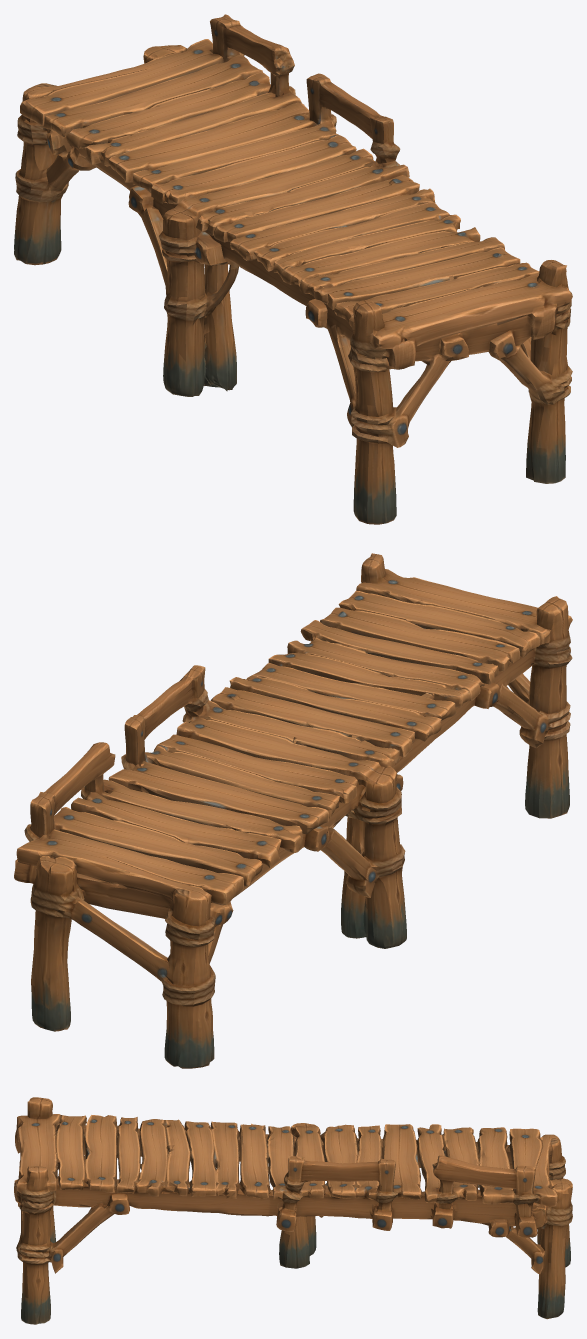
The model's file is crash-boardwalk-section.glb.
3 renders of one model, top to bottom at view 1: azimuth 30°, elevation 25°; view 2: azimuth 150°, elevation 25°; view 3: azimuth 270°, elevation 25°, orthographic. The views are drawn at different scales.
Visible parts, largest first — view 1: Boardwalk long axis along Z; view 2: Boardwalk long axis along Z; view 3: Boardwalk long axis along Z.
Part boxes in pixels (bbox=[...]): Boardwalk long axis along Z: bbox=[14, 14, 572, 524]; Boardwalk long axis along Z: bbox=[14, 553, 572, 1068]; Boardwalk long axis along Z: bbox=[14, 1097, 572, 1324].
Size of the model in its own units: 0.6802 by 0.6226 by 1.9.
1 material, 1 textured.
